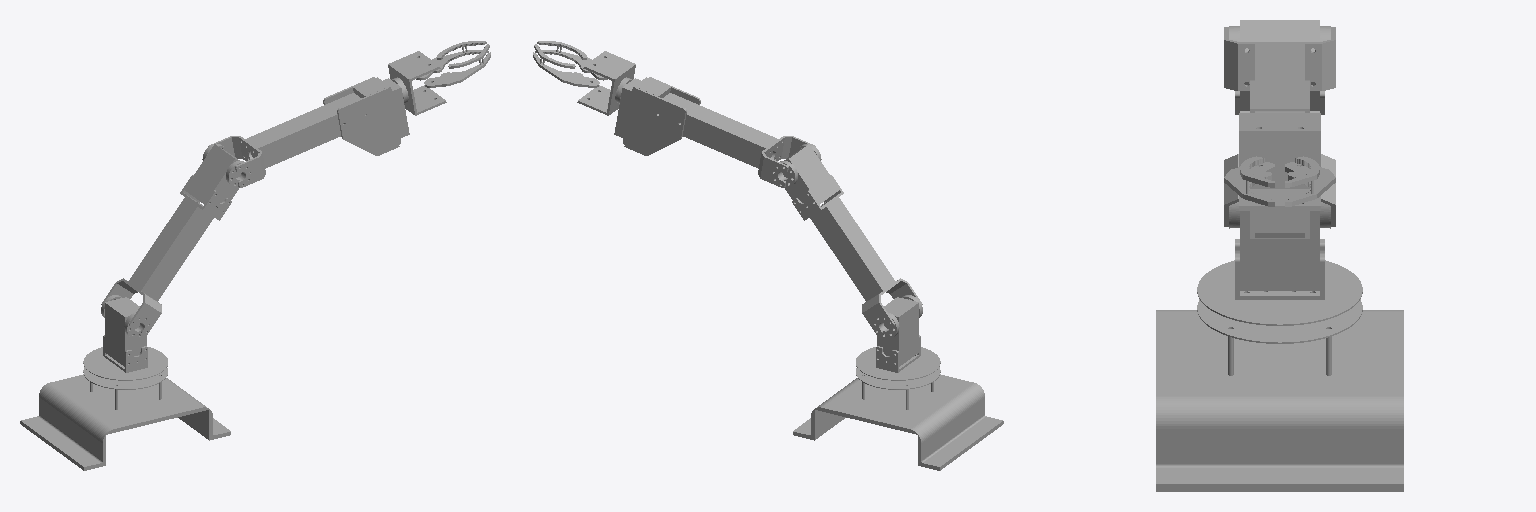
The robot description file, URDF, robot "angle_excurate_arm_ver2":
<?xml version="1.0" ?>
<!-- =================================================================================== -->
<!-- |    This document was autogenerated by xacro from urdf\angle_excurate_arm_ver2.xacro | -->
<!-- |    EDITING THIS FILE BY HAND IS NOT RECOMMENDED                                 | -->
<!-- =================================================================================== -->
<robot xmlns:xacro="http://www.ros.org/wiki/xacro" name="angle_excurate_arm_ver2">
  <material name="silver">
    <color rgba="0.700 0.700 0.700 1.000"/>
  </material>
  <transmission name="Revolute 1_tran">
    <type>transmission_interface/SimpleTransmission</type>
    <joint name="Revolute 1">
      <hardwareInterface>hardware_interface/EffortJointInterface</hardwareInterface>
    </joint>
    <actuator name="Revolute 1_actr">
      <hardwareInterface>hardware_interface/EffortJointInterface</hardwareInterface>
      <mechanicalReduction>1</mechanicalReduction>
    </actuator>
  </transmission>
  <transmission name="Revolute 2_tran">
    <type>transmission_interface/SimpleTransmission</type>
    <joint name="Revolute 2">
      <hardwareInterface>hardware_interface/EffortJointInterface</hardwareInterface>
    </joint>
    <actuator name="Revolute 2_actr">
      <hardwareInterface>hardware_interface/EffortJointInterface</hardwareInterface>
      <mechanicalReduction>1</mechanicalReduction>
    </actuator>
  </transmission>
  <transmission name="Revolute 3_tran">
    <type>transmission_interface/SimpleTransmission</type>
    <joint name="Revolute 3">
      <hardwareInterface>hardware_interface/EffortJointInterface</hardwareInterface>
    </joint>
    <actuator name="Revolute 3_actr">
      <hardwareInterface>hardware_interface/EffortJointInterface</hardwareInterface>
      <mechanicalReduction>1</mechanicalReduction>
    </actuator>
  </transmission>
  <transmission name="Revolute 4_tran">
    <type>transmission_interface/SimpleTransmission</type>
    <joint name="Revolute 4">
      <hardwareInterface>hardware_interface/EffortJointInterface</hardwareInterface>
    </joint>
    <actuator name="Revolute 4_actr">
      <hardwareInterface>hardware_interface/EffortJointInterface</hardwareInterface>
      <mechanicalReduction>1</mechanicalReduction>
    </actuator>
  </transmission>
  <transmission name="Revolute 5_tran">
    <type>transmission_interface/SimpleTransmission</type>
    <joint name="Revolute 5">
      <hardwareInterface>hardware_interface/EffortJointInterface</hardwareInterface>
    </joint>
    <actuator name="Revolute 5_actr">
      <hardwareInterface>hardware_interface/EffortJointInterface</hardwareInterface>
      <mechanicalReduction>1</mechanicalReduction>
    </actuator>
  </transmission>
  <transmission name="Revolute 6_tran">
    <type>transmission_interface/SimpleTransmission</type>
    <joint name="Revolute 6">
      <hardwareInterface>hardware_interface/EffortJointInterface</hardwareInterface>
    </joint>
    <actuator name="Revolute 6_actr">
      <hardwareInterface>hardware_interface/EffortJointInterface</hardwareInterface>
      <mechanicalReduction>1</mechanicalReduction>
    </actuator>
  </transmission>
  <gazebo>
    <plugin name="control" filename="libgazebo_ros_control.so"/>
  </gazebo>
  <gazebo reference="base_link">
    <material>Gazebo/Silver</material>
    <mu1>0.2</mu1>
    <mu2>0.2</mu2>
    <selfCollide>true</selfCollide>
    <gravity>true</gravity>
  </gazebo>
  <gazebo reference="base_link2_v2_1">
    <material>Gazebo/Silver</material>
    <mu1>0.2</mu1>
    <mu2>0.2</mu2>
    <selfCollide>true</selfCollide>
  </gazebo>
  <gazebo reference="link3_v1_1">
    <material>Gazebo/Silver</material>
    <mu1>0.2</mu1>
    <mu2>0.2</mu2>
    <selfCollide>true</selfCollide>
  </gazebo>
  <gazebo reference="link4_v1_1">
    <material>Gazebo/Silver</material>
    <mu1>0.2</mu1>
    <mu2>0.2</mu2>
    <selfCollide>true</selfCollide>
  </gazebo>
  <gazebo reference="robot_ver7_link_4_v1_1">
    <material>Gazebo/Silver</material>
    <mu1>0.2</mu1>
    <mu2>0.2</mu2>
    <selfCollide>true</selfCollide>
  </gazebo>
  <gazebo reference="robot_ver7_grap2_2_v1_1">
    <material>Gazebo/Silver</material>
    <mu1>0.2</mu1>
    <mu2>0.2</mu2>
    <selfCollide>true</selfCollide>
  </gazebo>
  <gazebo reference="robot_ver7_grap1_2_v1_1">
    <material>Gazebo/Silver</material>
    <mu1>0.2</mu1>
    <mu2>0.2</mu2>
    <selfCollide>true</selfCollide>
  </gazebo>
  <gazebo reference="base_link_2_1">
    <material>Gazebo/Silver</material>
    <mu1>0.2</mu1>
    <mu2>0.2</mu2>
    <selfCollide>true</selfCollide>
  </gazebo>
  <link name="base_link">
    <inertial>
      <origin xyz="1.8745796736605483e-12 -2.6846557552026664e-18 0.04000014999999999" rpy="0 0 0"/>
      <mass value="7.925585093654501e-07"/>
      <inertia ixx="0.0" iyy="0.0" izz="0.0" ixy="-0.0" iyz="-0.0" ixz="-0.0"/>
    </inertial>
    <visual>
      <origin xyz="0 0 0" rpy="0 0 0"/>
      <geometry>
        <mesh filename="package://robot_description/meshes/base_link.stl" scale="0.001 0.001 0.001"/>
      </geometry>
      <material name="silver"/>
    </visual>
    <collision>
      <origin xyz="0 0 0" rpy="0 0 0"/>
      <geometry>
        <mesh filename="package://robot_description/meshes/base_link.stl" scale="0.001 0.001 0.001"/>
      </geometry>
    </collision>
  </link>
  <link name="base_link2_v2_1">
    <inertial>
      <origin xyz="-5.553953613832533e-14 1.6607364926774611e-07 0.04484512943360931" rpy="0 0 0"/>
      <mass value="0.8724221516717809"/>
      <inertia ixx="0.000636" iyy="0.000529" izz="0.000308" ixy="0.0" iyz="0.0" ixz="0.0"/>
    </inertial>
    <visual>
      <origin xyz="0.0 -0.0 -0.076" rpy="0 0 0"/>
      <geometry>
        <mesh filename="package://robot_description/meshes/base_link2_v2_1.stl" scale="0.001 0.001 0.001"/>
      </geometry>
      <material name="silver"/>
    </visual>
    <collision>
      <origin xyz="0.0 -0.0 -0.076" rpy="0 0 0"/>
      <geometry>
        <mesh filename="package://robot_description/meshes/base_link2_v2_1.stl" scale="0.001 0.001 0.001"/>
      </geometry>
    </collision>
  </link>
  <link name="link3_v1_1">
    <inertial>
      <origin xyz="0.08484392825641267 8.013781706481686e-08 0.10111325630955267" rpy="0 0 0"/>
      <mass value="1.7894494256516058"/>
      <inertia ixx="0.00475" iyy="0.007559" izz="0.003484" ixy="-0.0" iyz="-0.0" ixz="-0.003589"/>
    </inertial>
    <visual>
      <origin xyz="0.0 0.0 -0.146342" rpy="0 0 0"/>
      <geometry>
        <mesh filename="package://robot_description/meshes/link3_v1_1.stl" scale="0.001 0.001 0.001"/>
      </geometry>
      <material name="silver"/>
    </visual>
    <collision>
      <origin xyz="0.0 0.0 -0.146342" rpy="0 0 0"/>
      <geometry>
        <mesh filename="package://robot_description/meshes/link3_v1_1.stl" scale="0.001 0.001 0.001"/>
      </geometry>
    </collision>
  </link>
  <link name="link4_v1_1">
    <inertial>
      <origin xyz="0.14822703980623636 -1.61812620875914e-09 0.017829758669321516" rpy="0 0 0"/>
      <mass value="2.301167222256875"/>
      <inertia ixx="0.001028" iyy="0.010731" izz="0.010331" ixy="0.0" iyz="0.0" ixz="-0.000548"/>
    </inertial>
    <visual>
      <origin xyz="-0.137776 0.0 -0.310538" rpy="0 0 0"/>
      <geometry>
        <mesh filename="package://robot_description/meshes/link4_v1_1.stl" scale="0.001 0.001 0.001"/>
      </geometry>
      <material name="silver"/>
    </visual>
    <collision>
      <origin xyz="-0.137776 0.0 -0.310538" rpy="0 0 0"/>
      <geometry>
        <mesh filename="package://robot_description/meshes/link4_v1_1.stl" scale="0.001 0.001 0.001"/>
      </geometry>
    </collision>
  </link>
  <link name="robot_ver7_link_4_v1_1">
    <inertial>
      <origin xyz="0.017892495703134614 -1.618123421275575e-09 0.00315495193392884" rpy="0 0 0"/>
      <mass value="0.1836674229836172"/>
      <inertia ixx="9.9e-05" iyy="0.000103" izz="7.2e-05" ixy="0.0" iyz="0.0" ixz="5e-06"/>
    </inertial>
    <visual>
      <origin xyz="-0.36806 0.0 -0.352664" rpy="0 0 0"/>
      <geometry>
        <mesh filename="package://robot_description/meshes/robot_ver7_link_4_v1_1.stl" scale="0.001 0.001 0.001"/>
      </geometry>
      <material name="silver"/>
    </visual>
    <collision>
      <origin xyz="-0.36806 0.0 -0.352664" rpy="0 0 0"/>
      <geometry>
        <mesh filename="package://robot_description/meshes/robot_ver7_link_4_v1_1.stl" scale="0.001 0.001 0.001"/>
      </geometry>
    </collision>
  </link>
  <link name="robot_ver7_grap2_2_v1_1">
    <inertial>
      <origin xyz="0.03188464924792617 -0.0055870722111964685 0.00827502813362846" rpy="0 0 0"/>
      <mass value="0.04062678364092949"/>
      <inertia ixx="4e-06" iyy="2.6e-05" izz="2.5e-05" ixy="-0.0" iyz="-0.0" ixz="-6e-06"/>
    </inertial>
    <visual>
      <origin xyz="-0.409619 0.0125 -0.359992" rpy="0 0 0"/>
      <geometry>
        <mesh filename="package://robot_description/meshes/robot_ver7_grap2_2_v1_1.stl" scale="0.001 0.001 0.001"/>
      </geometry>
      <material name="silver"/>
    </visual>
    <collision>
      <origin xyz="-0.409619 0.0125 -0.359992" rpy="0 0 0"/>
      <geometry>
        <mesh filename="package://robot_description/meshes/robot_ver7_grap2_2_v1_1.stl" scale="0.001 0.001 0.001"/>
      </geometry>
    </collision>
  </link>
  <link name="robot_ver7_grap1_2_v1_1">
    <inertial>
      <origin xyz="0.03188464924792689 0.005587068974950284 0.008275028133628792" rpy="0 0 0"/>
      <mass value="0.040626783640931655"/>
      <inertia ixx="4e-06" iyy="2.6e-05" izz="2.5e-05" ixy="0.0" iyz="0.0" ixz="-6e-06"/>
    </inertial>
    <visual>
      <origin xyz="-0.409619 -0.0125 -0.359992" rpy="0 0 0"/>
      <geometry>
        <mesh filename="package://robot_description/meshes/robot_ver7_grap1_2_v1_1.stl" scale="0.001 0.001 0.001"/>
      </geometry>
      <material name="silver"/>
    </visual>
    <collision>
      <origin xyz="-0.409619 -0.0125 -0.359992" rpy="0 0 0"/>
      <geometry>
        <mesh filename="package://robot_description/meshes/robot_ver7_grap1_2_v1_1.stl" scale="0.001 0.001 0.001"/>
      </geometry>
    </collision>
  </link>
  <link name="base_link_2_1">
    <inertial>
      <origin xyz="-7.6976007193707615e-16 1.23599521765243e-16 -0.010056885130538304" rpy="0 0 0"/>
      <mass value="1.6067306789990348"/>
      <inertia ixx="0.003521" iyy="0.006468" izz="0.008802" ixy="0.0" iyz="-0.0" ixz="0.0"/>
    </inertial>
    <visual>
      <origin xyz="-0.0 -0.0 -0.04" rpy="0 0 0"/>
      <geometry>
        <mesh filename="package://robot_description/meshes/base_link_2_1.stl" scale="0.001 0.001 0.001"/>
      </geometry>
      <material name="silver"/>
    </visual>
    <collision>
      <origin xyz="-0.0 -0.0 -0.04" rpy="0 0 0"/>
      <geometry>
        <mesh filename="package://robot_description/meshes/base_link_2_1.stl" scale="0.001 0.001 0.001"/>
      </geometry>
    </collision>
  </link>
  <joint name="Revolute 1" type="revolute">
    <origin xyz="-0.0 0.0 0.036" rpy="0 0 0"/>
    <parent link="base_link_2_1"/>
    <child link="base_link2_v2_1"/>
    <axis xyz="0.0 -0.0 1.0"/>
    <limit upper="3.141593" lower="0.0" effort="100" velocity="100"/>
  </joint>
  <joint name="Revolute 2" type="revolute">
    <origin xyz="0.0 -0.0 0.070342" rpy="0 0 0"/>
    <parent link="base_link2_v2_1"/>
    <child link="link3_v1_1"/>
    <axis xyz="-0.0 -1.0 0.0"/>
    <limit upper="2.094395" lower="0.0" effort="100" velocity="100"/>
  </joint>
  <joint name="Revolute 3" type="revolute">
    <origin xyz="0.137776 0.0 0.164196" rpy="0 0 0"/>
    <parent link="link3_v1_1"/>
    <child link="link4_v1_1"/>
    <axis xyz="-0.0 -1.0 0.0"/>
    <limit upper="2.617994" lower="0.0" effort="100" velocity="100"/>
  </joint>
  <joint name="Revolute 4" type="revolute">
    <origin xyz="0.230284 0.0 0.042126" rpy="0 0 0"/>
    <parent link="link4_v1_1"/>
    <child link="robot_ver7_link_4_v1_1"/>
    <axis xyz="0.984808 0.0 0.173648"/>
    <limit upper="3.141593" lower="0.0" effort="100" velocity="100"/>
  </joint>
  <joint name="Revolute 5" type="revolute">
    <origin xyz="0.041559 -0.0125 0.007328" rpy="0 0 0"/>
    <parent link="robot_ver7_link_4_v1_1"/>
    <child link="robot_ver7_grap2_2_v1_1"/>
    <axis xyz="0.173648 -0.0 -0.984808"/>
    <limit upper="1.22173" lower="0.0" effort="100" velocity="100"/>
  </joint>
  <joint name="Revolute 6" type="revolute">
    <origin xyz="0.041559 0.0125 0.007328" rpy="0 0 0"/>
    <parent link="robot_ver7_link_4_v1_1"/>
    <child link="robot_ver7_grap1_2_v1_1"/>
    <axis xyz="-0.173648 0.0 0.984808"/>
    <limit upper="1.22173" lower="0.0" effort="100" velocity="100"/>
  </joint>
  <joint name="Rigid 8" type="fixed">
    <origin xyz="0.0 0.0 0.04" rpy="0 0 0"/>
    <parent link="base_link"/>
    <child link="base_link_2_1"/>
  </joint>
</robot>

--- What the picture shows (computed from the rendered views, not written in the file) ---
3 views of the same robot in one strip: view 1: azimuth 30°, elevation 25°; view 2: azimuth 150°, elevation 25°; view 3: azimuth 270°, elevation 25° (orthographic).
Robot: angle_excurate_arm_ver2 — 8 links, 7 joints (6 revolute, 1 fixed); root link base_link; default pose: all joints at 0.
Links seen in each view (by area): view 1: base_link_2_1, link4_v1_1, link3_v1_1, base_link2_v2_1, robot_ver7_link_4_v1_1, robot_ver7_grap2_2_v1_1, robot_ver7_grap1_2_v1_1; view 2: base_link_2_1, link4_v1_1, link3_v1_1, base_link2_v2_1, robot_ver7_link_4_v1_1, robot_ver7_grap1_2_v1_1, robot_ver7_grap2_2_v1_1; view 3: base_link_2_1, base_link2_v2_1, link4_v1_1, robot_ver7_link_4_v1_1, link3_v1_1, robot_ver7_grap2_2_v1_1, robot_ver7_grap1_2_v1_1.
Link boxes in pixels (x1,y1,x2,y2): base_link_2_1: (20,367,230,470); link4_v1_1: (202,77,409,187); link3_v1_1: (101,144,241,338); base_link2_v2_1: (83,297,167,380); robot_ver7_link_4_v1_1: (388,51,446,115); robot_ver7_grap2_2_v1_1: (424,44,490,87); robot_ver7_grap1_2_v1_1: (416,41,488,80); base_link_2_1: (793,367,1003,470); link4_v1_1: (614,77,821,187); link3_v1_1: (782,144,922,338); base_link2_v2_1: (856,297,940,380); robot_ver7_link_4_v1_1: (577,51,635,115); robot_ver7_grap1_2_v1_1: (533,44,599,87); robot_ver7_grap2_2_v1_1: (535,41,607,80); base_link_2_1: (1156,299,1403,491); base_link2_v2_1: (1197,211,1362,325); link4_v1_1: (1224,26,1335,238); robot_ver7_link_4_v1_1: (1239,113,1320,210); link3_v1_1: (1224,20,1335,228); robot_ver7_grap2_2_v1_1: (1224,156,1274,206); robot_ver7_grap1_2_v1_1: (1285,156,1335,206).
Size in the robot's own frame: 0.5947 by 0.15 by 0.3882 metres.
8 mesh visuals loaded from 8 distinct referenced files (8 binary STL).